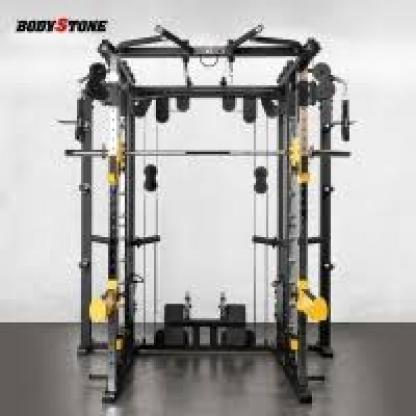smith machine: (58, 34, 357, 406)
